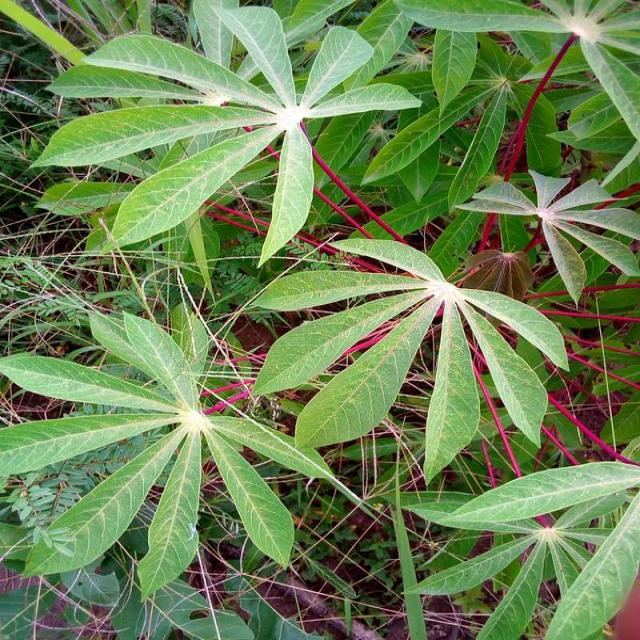cassava leaf: (1, 0, 638, 637), (1, 301, 350, 600), (30, 1, 423, 266), (250, 235, 569, 485)
